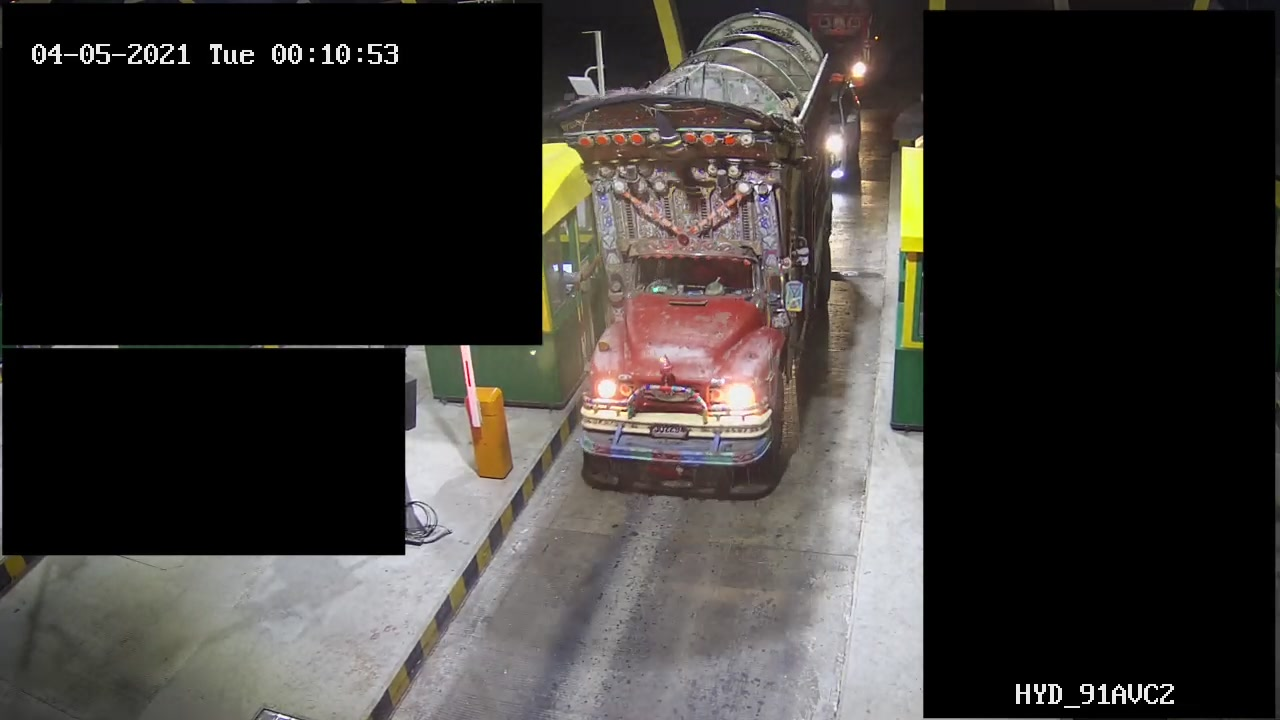F5: (568, 1, 840, 485)
